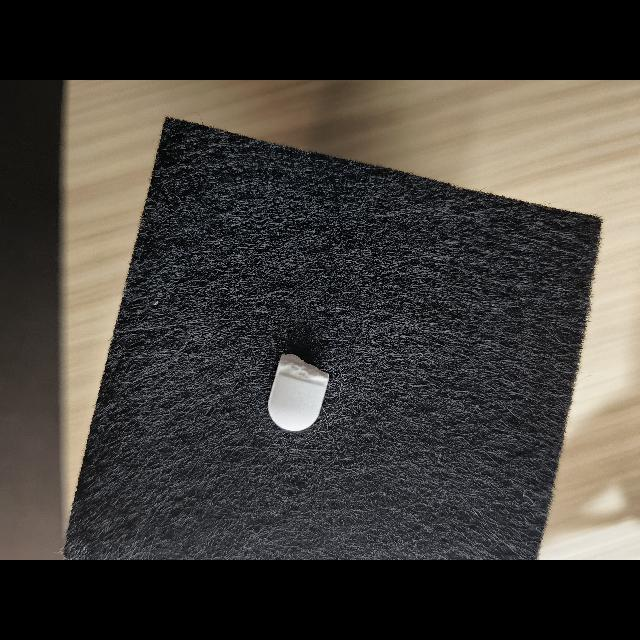Chipped Pill: (268, 354, 329, 431)
